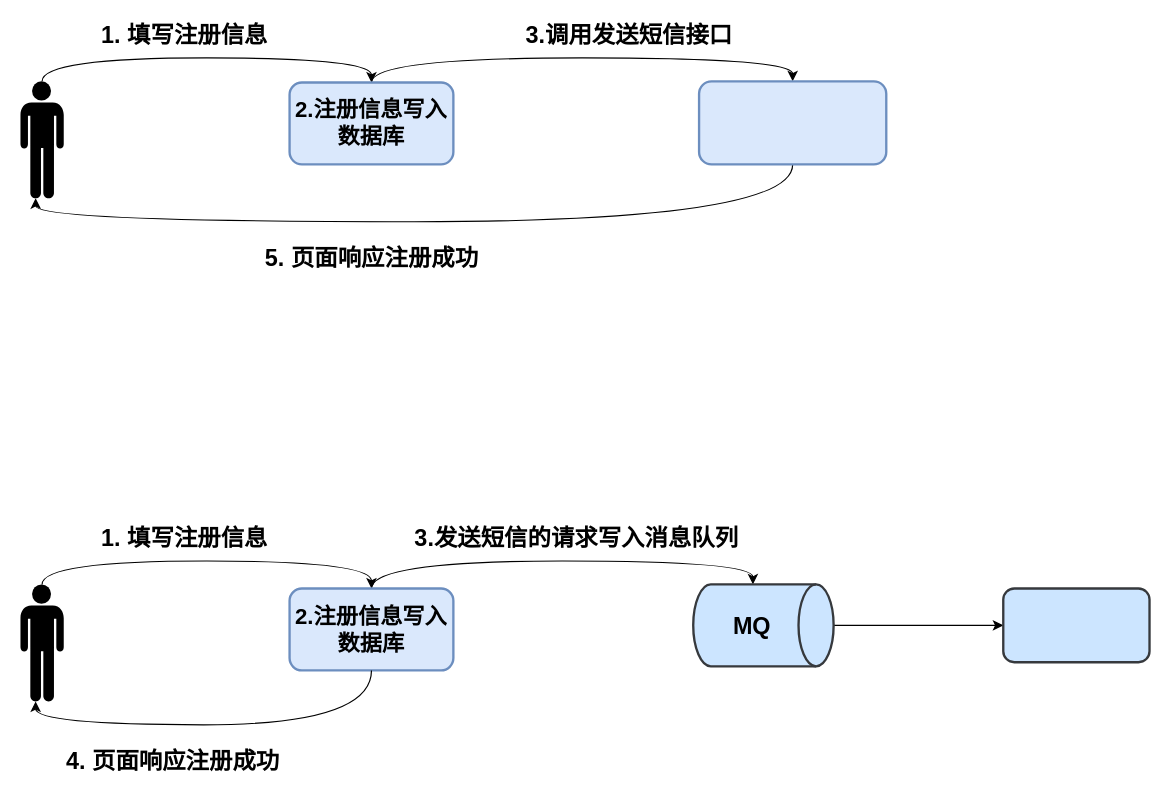
The diagram is 1170 pixels wide and 793 high, and some of its shapes have lost their labels. Each missing label, with the box of its shape:
4.发送短信: (697, 80, 887, 165)
发送短信: (1002, 587, 1150, 663)
